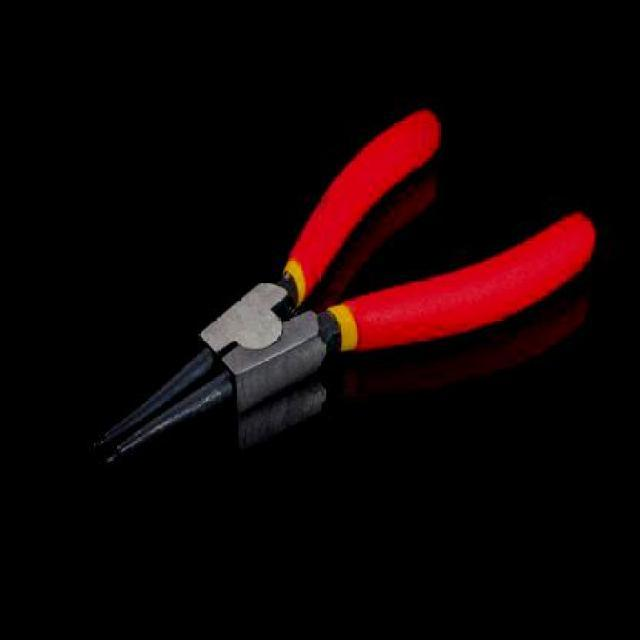pliers: (82, 104, 601, 464)
